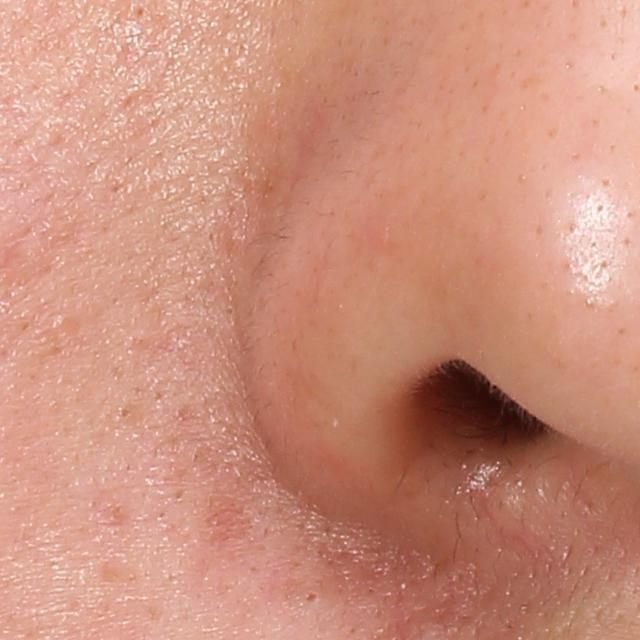comedo: (113, 405, 138, 423)
